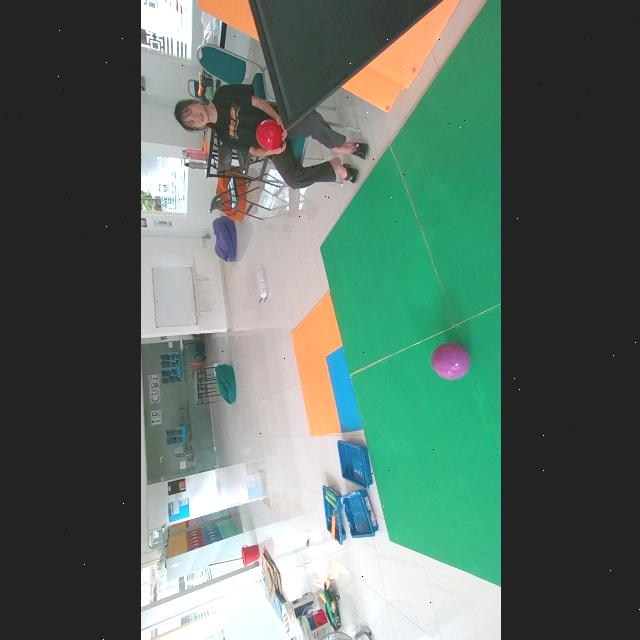P: (431, 342, 469, 379)
R: (255, 119, 282, 150)
